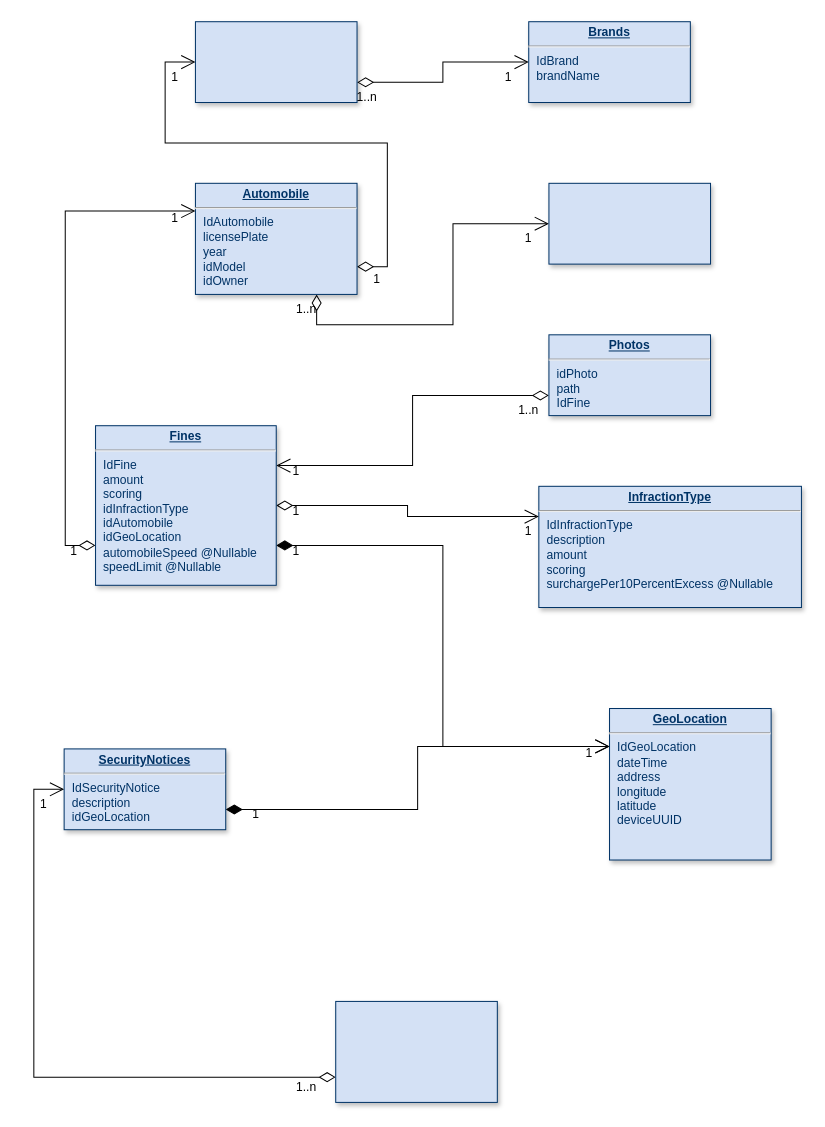
The diagram is 825 pixels wide and 1127 high, and some of its shapes have lost their labels. Each missing label, with the centre of its shape:
"Models IdModel modelName idBrand" goes at (x=276, y=63).
"Owners IdOwner fullName address" goes at (x=630, y=224).
"Services IdService serviceName servicePhoneNumber idSecurityNotice" goes at (x=417, y=1052).
